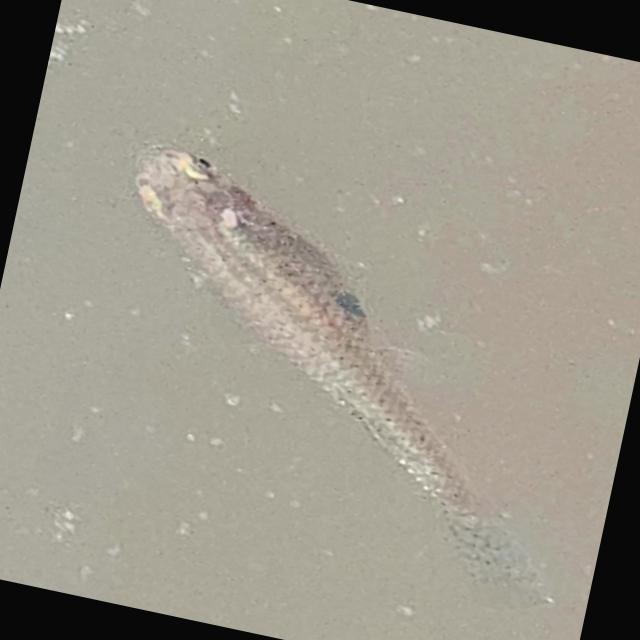Sivrisinek Baligi: (60, 136, 632, 610)
